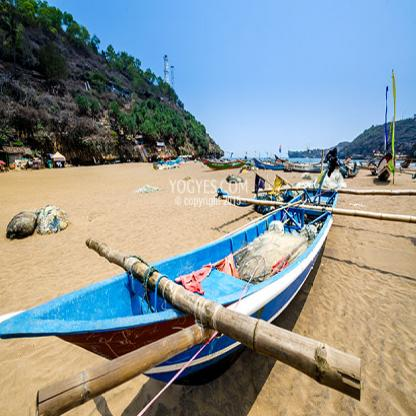fishing boat: (5, 209, 392, 402)
